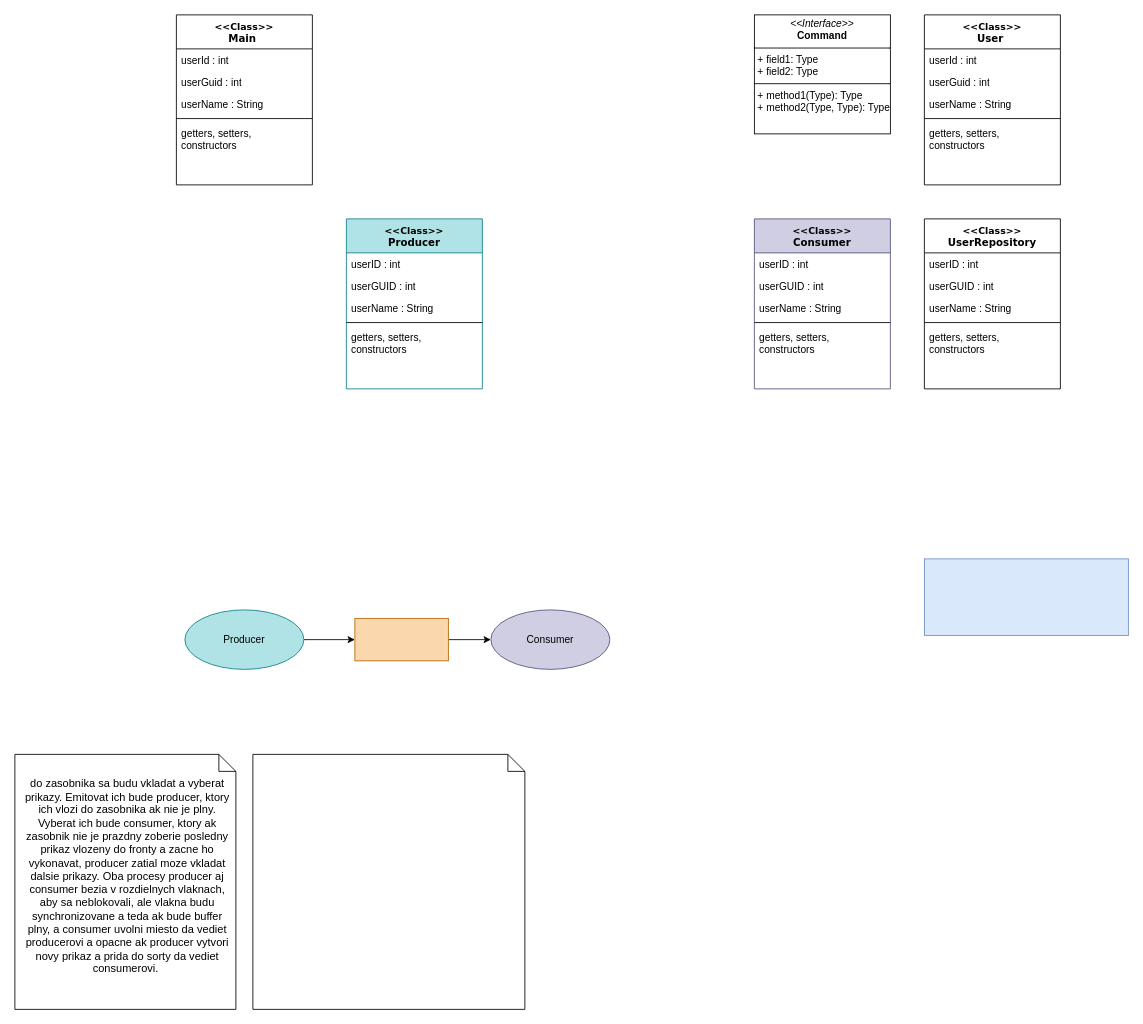
Image size: 1143x1024. Some labels were removed from this diagram. The centre of each missing label's shape, as x and y in pixels:
blockingqueue command pattern linkedblockingqueue: the point at 388,881
Buffer/ Queue FIFO: the point at 401,639
SUSERS (DB_TAB) PK user_id int UUID user_guid int user_name varchar: the point at 1026,596
